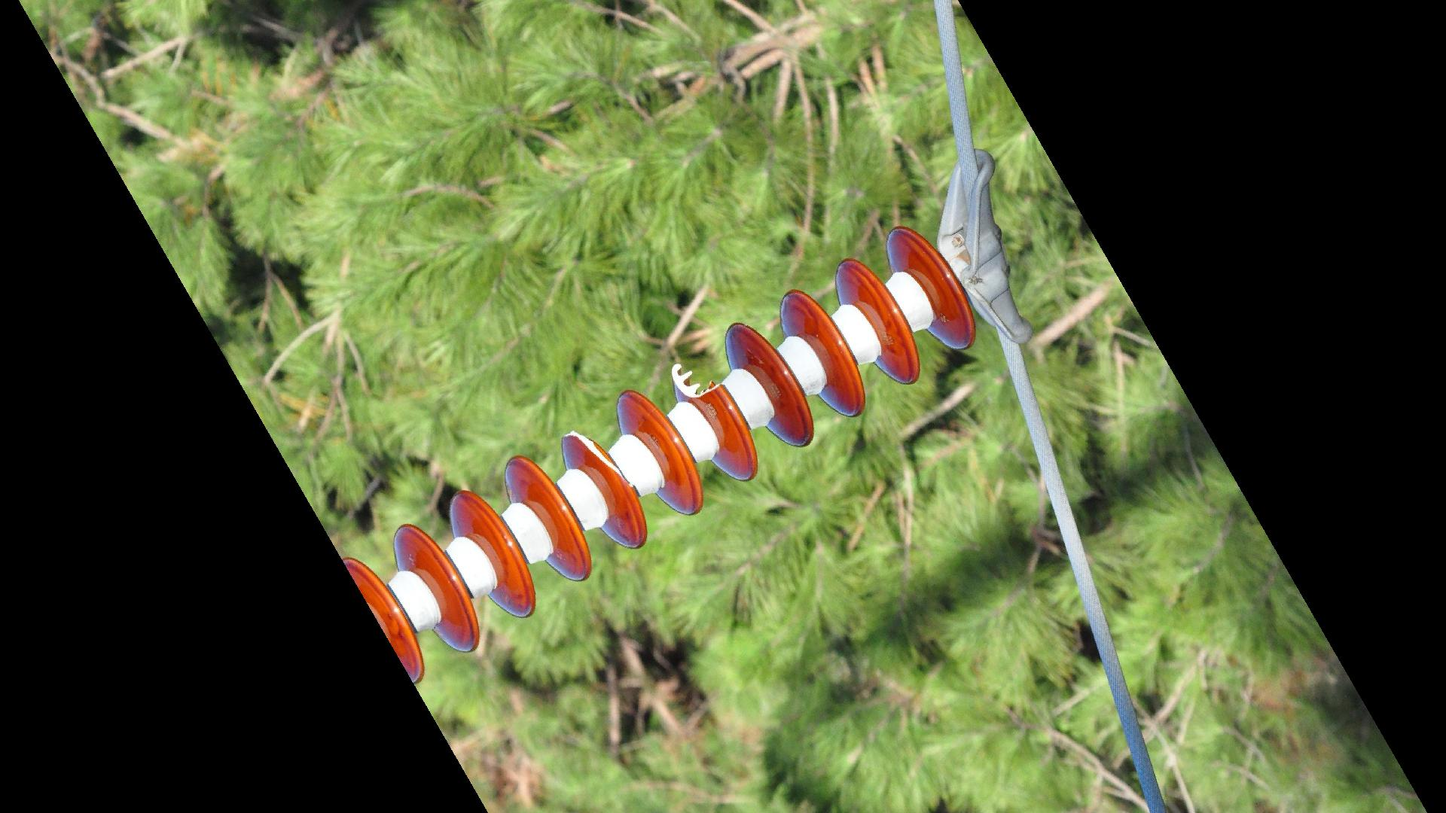insulator: (339, 222, 981, 693)
insulator_breakage: (558, 428, 634, 489), (667, 358, 729, 406)
